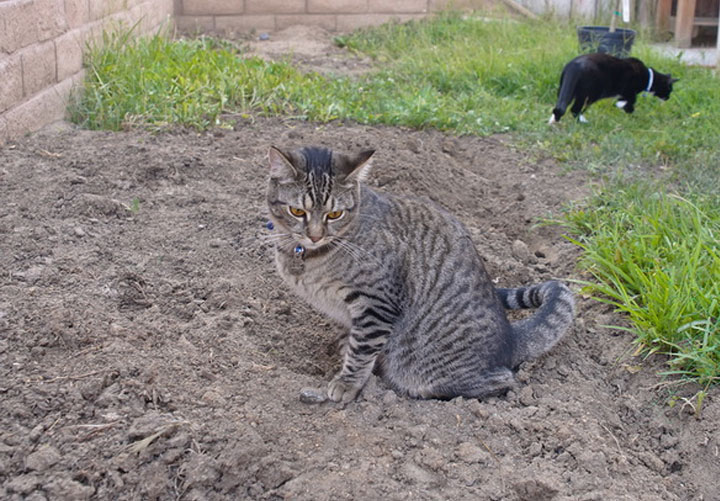cat: (265, 142, 579, 407), (551, 54, 676, 125)
